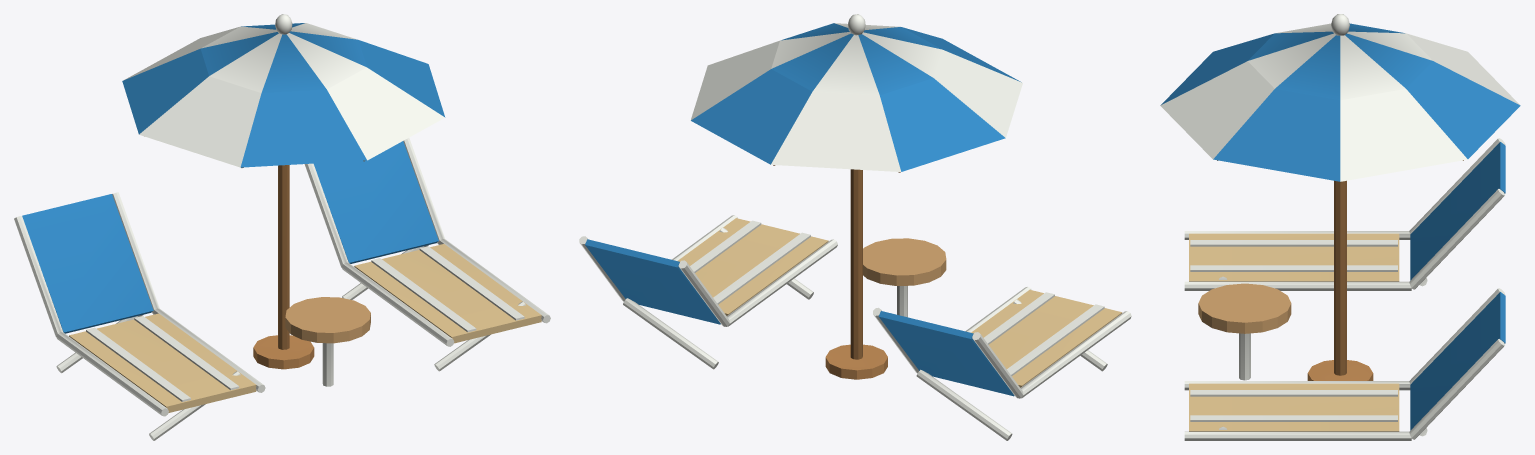
Rendered from beach-set.glb.
The picture shows the model from 3 angles, left to right: view 1: azimuth 30°, elevation 25°; view 2: azimuth 150°, elevation 25°; view 3: azimuth 270°, elevation 25°; orthographic projection. The views are drawn at different scales.
Parts seen in each view (by area): view 1: sewn canvas panel.001, sewn canvas panel, lounger fabric, umbrella foot, beach side table; view 2: sewn canvas panel, sewn canvas panel.001, lounger fabric, umbrella foot, beach side table; view 3: sewn canvas panel, sewn canvas panel.001, lounger fabric, beach side table, umbrella foot.
Boxes of the visible parts, x1=… form: sewn canvas panel.001: x1=22, y1=23, x2=445, y2=333; sewn canvas panel: x1=14, y1=14, x2=550, y2=440; lounger fabric: x1=69, y1=244, x2=541, y2=412; umbrella foot: x1=241, y1=160, x2=365, y2=369; beach side table: x1=285, y1=297, x2=370, y2=343; sewn canvas panel: x1=579, y1=14, x2=1131, y2=440; sewn canvas panel.001: x1=585, y1=23, x2=1021, y2=396; lounger fabric: x1=677, y1=218, x2=1122, y2=387; umbrella foot: x1=773, y1=165, x2=900, y2=379; beach side table: x1=863, y1=238, x2=946, y2=285; sewn canvas panel: x1=1160, y1=14, x2=1520, y2=440; sewn canvas panel.001: x1=1160, y1=23, x2=1520, y2=430; lounger fabric: x1=1189, y1=233, x2=1399, y2=431; beach side table: x1=1198, y1=283, x2=1291, y2=333; umbrella foot: x1=1217, y1=160, x2=1463, y2=380.
Bounding box in the file's own units: 1.78 × 1.49 × 1.32.
